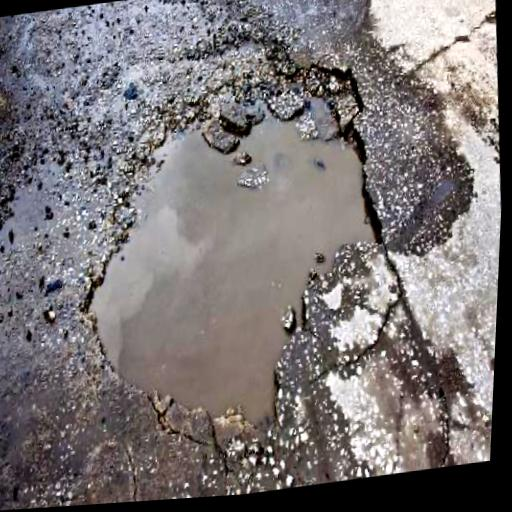pothole: (57, 49, 406, 460)
